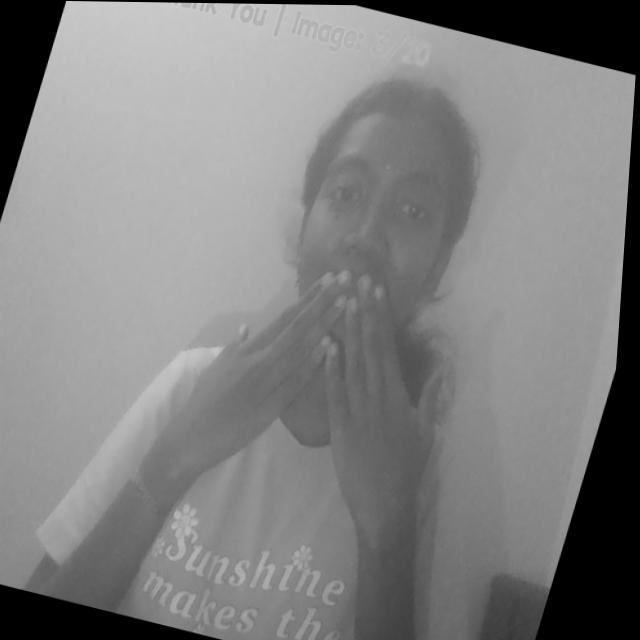Yes: (184, 245, 481, 523)
